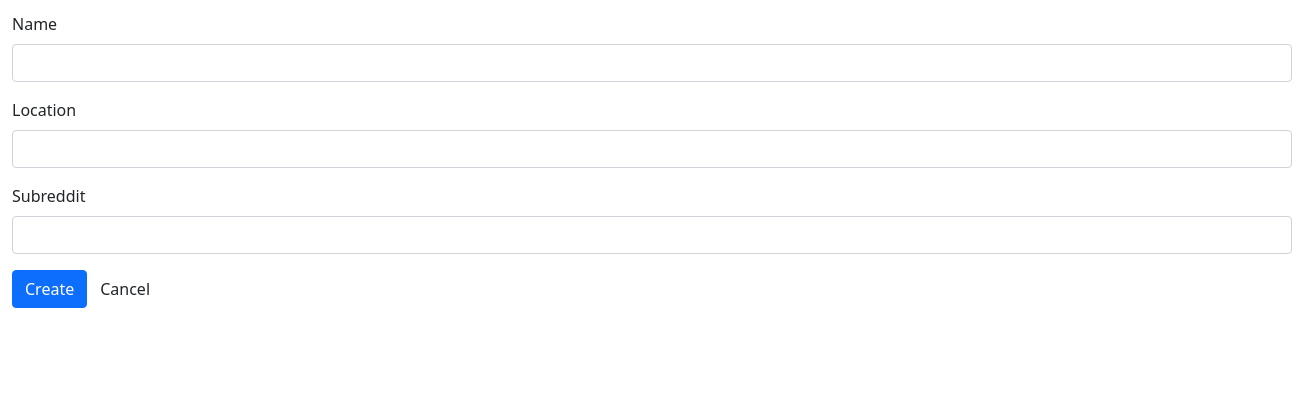
CollegiateSubredditsForm tests › Correct Error messsages on missing input
The width and height of the screenshot is (1304, 400).
Click the button with test id "CollegiateSubredditsForm-submit": click(50, 289) [12,270,87,308]
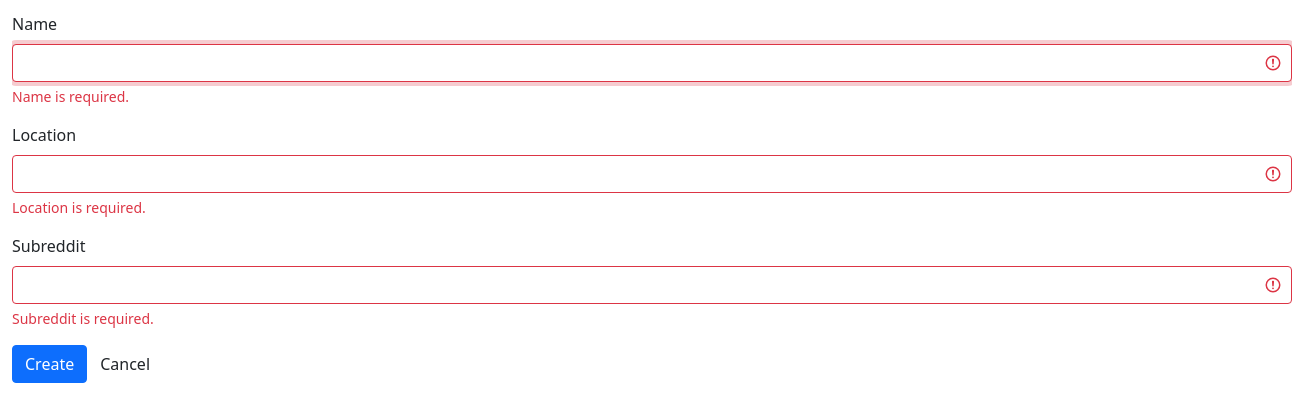
expect the text "Location is required." is shown: met, box [12,198,146,217]
expect the text "Name is required." is shown: met, box [12,87,129,106]
expect the text "Subreddit is required." is shown: met, box [12,309,154,328]
